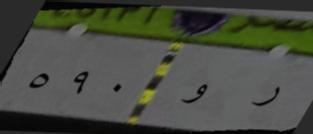0: (106, 74, 126, 105)
5: (25, 64, 59, 100)
9: (68, 65, 95, 100)
raa: (243, 79, 284, 113)
waw: (175, 78, 212, 110)
